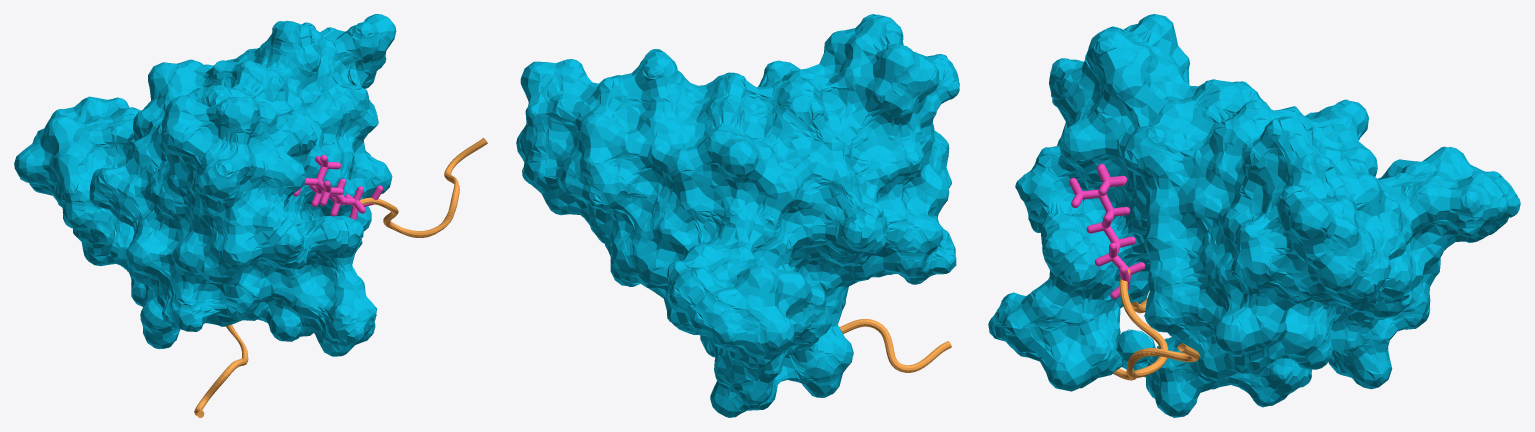
File: 13_2L11_cbx3_h3k9me3.fbx
The picture shows the model from 3 angles, left to right: view 1: azimuth 30°, elevation 25°; view 2: azimuth 150°, elevation 25°; view 3: azimuth 270°, elevation 25°; orthographic projection. The views are drawn at different scales.
Visible parts, largest first — view 1: vmd_mol0_rep2, vmd_mol0_rep1, vmd_mol0_rep0; view 2: vmd_mol0_rep2, vmd_mol0_rep1; view 3: vmd_mol0_rep2, vmd_mol0_rep0, vmd_mol0_rep1.
Boxes of the visible parts, box(x1,y1,x2,y2) form: vmd_mol0_rep2: box(14, 14, 396, 356); vmd_mol0_rep1: box(194, 138, 487, 417); vmd_mol0_rep0: box(293, 155, 383, 220); vmd_mol0_rep2: box(516, 14, 959, 417); vmd_mol0_rep1: box(839, 319, 951, 372); vmd_mol0_rep2: box(988, 14, 1520, 417); vmd_mol0_rep0: box(1069, 163, 1145, 299); vmd_mol0_rep1: box(1113, 268, 1200, 380).
Size of the model in its own units: 14.71 by 12.05 by 15.89.
